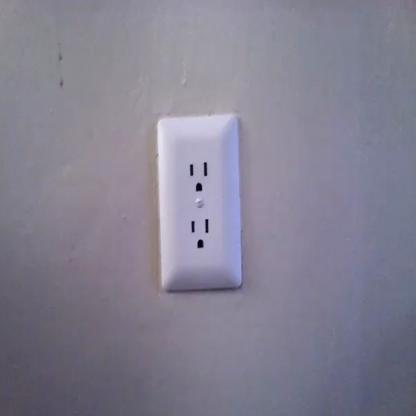OUTLET: (157, 116, 244, 292)
